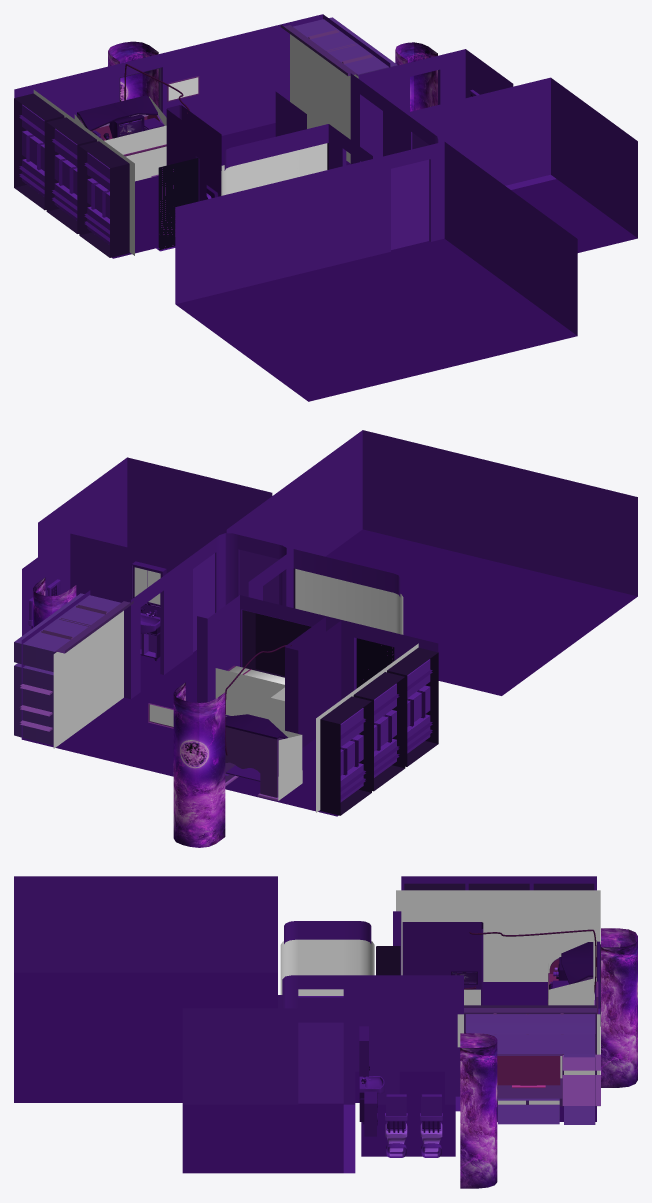
Rendered from room1.glb.
The picture shows the model from 3 angles, top to bottom: view 1: azimuth 30°, elevation 25°; view 2: azimuth 150°, elevation 25°; view 3: azimuth 270°, elevation 25°; orthographic projection. The views are drawn at different scales.
Parts seen in each view (by area): view 1: Plane, Plane.001, Cube.003, Cube.006, Cube.014, Cube, Cube.008, Cube.005, CRT_Monitor_monitor_plastic_0.002, Cube.001; view 2: Plane, Plane.001, Cube.008, Cube, Cube.014, Cube.005, Cube.006, Cube.003, Cube.015; view 3: Plane, Plane.001, Cube.008, Cube, Cube.005, Cube.017, Cube.023, Cube.018, Cube.015, Cube.024, Cube.022, Cube.003 (+2 smaller).
Boxes of the visible parts, <box> form: Plane: <box>14,14,637,401</box>; Plane.001: <box>33,34,358,255</box>; Cube.003: <box>79,141,129,257</box>; Cube.006: <box>46,117,96,233</box>; Cube.014: <box>14,93,64,210</box>; Cube: <box>166,105,221,200</box>; Cube.008: <box>280,17,397,76</box>; Cube.005: <box>77,95,166,177</box>; CRT_Monitor_monitor_plastic_0.002: <box>109,115,144,138</box>; Cube.001: <box>167,76,199,101</box>; Plane: <box>21,430,637,847</box>; Plane.001: <box>53,610,418,812</box>; Cube.008: <box>14,593,133,745</box>; Cube: <box>227,617,341,747</box>; Cube.014: <box>320,696,371,815</box>; Cube.005: <box>225,714,287,800</box>; Cube.006: <box>353,672,405,791</box>; Cube.003: <box>387,647,438,766</box>; Cube.015: <box>131,561,166,661</box>; Plane: <box>14,876,637,1188</box>; Plane.001: <box>396,890,600,1106</box>; Cube.008: <box>464,1005,600,1124</box>; Cube: <box>402,922,483,1005</box>; Cube.005: <box>547,942,595,1005</box>; Cube.017: <box>420,1094,442,1132</box>; Cube.023: <box>385,1094,407,1132</box>; Cube.018: <box>420,1121,442,1157</box>; Cube.015: <box>359,1026,377,1124</box>; Cube.024: <box>385,1121,407,1157</box>; Cube.022: <box>364,1091,377,1136</box>; Cube.003: <box>404,883,465,890</box>.
Size of the model in its own units: 52.87 by 17.23 by 69.22.
9 materials, 5 textured.
